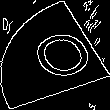O_SE: (16, 23, 94, 87)
